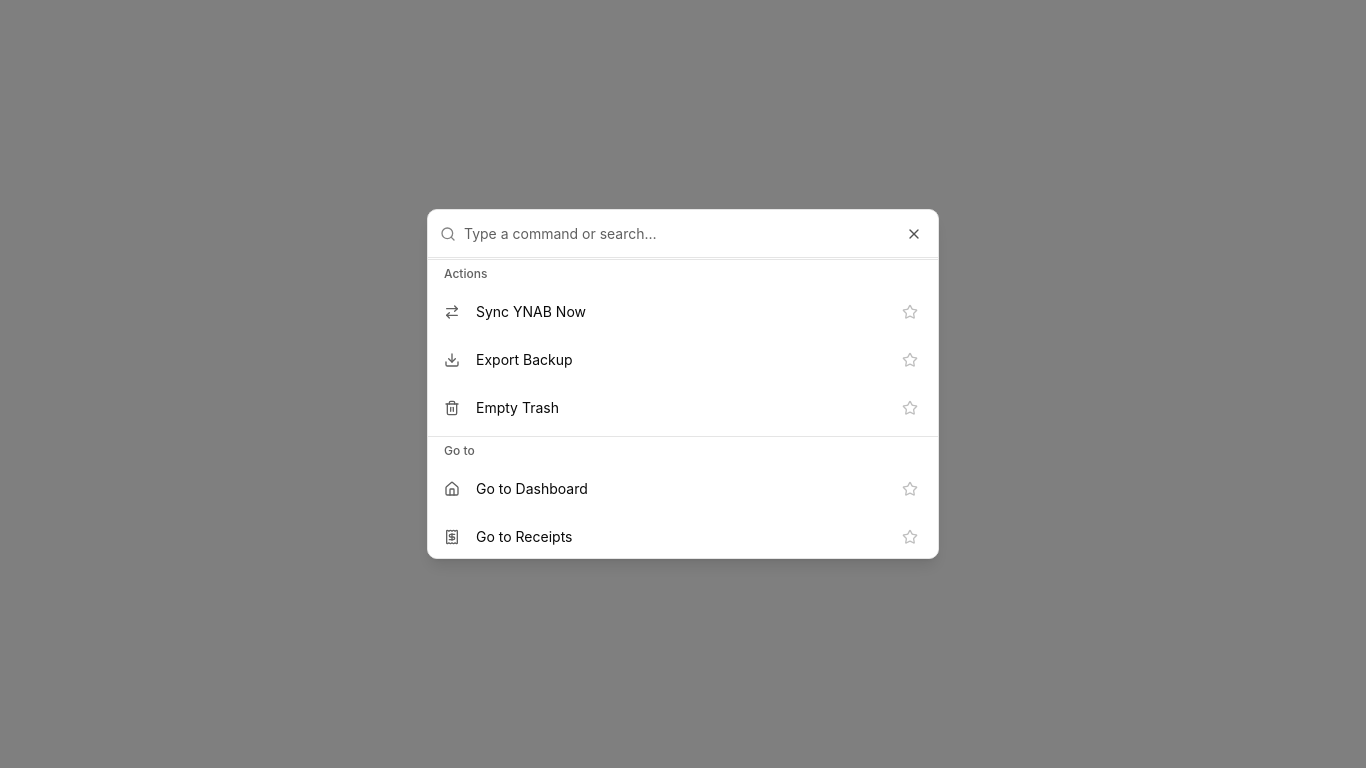
Test: CommandPalette › Empty Trash opens a confirmation dialog without closing the palette
(page scrolled)
Step 1. Click the option "Empty Trash" → {"x": 517, "y": 408}, box [444,396,922,420]
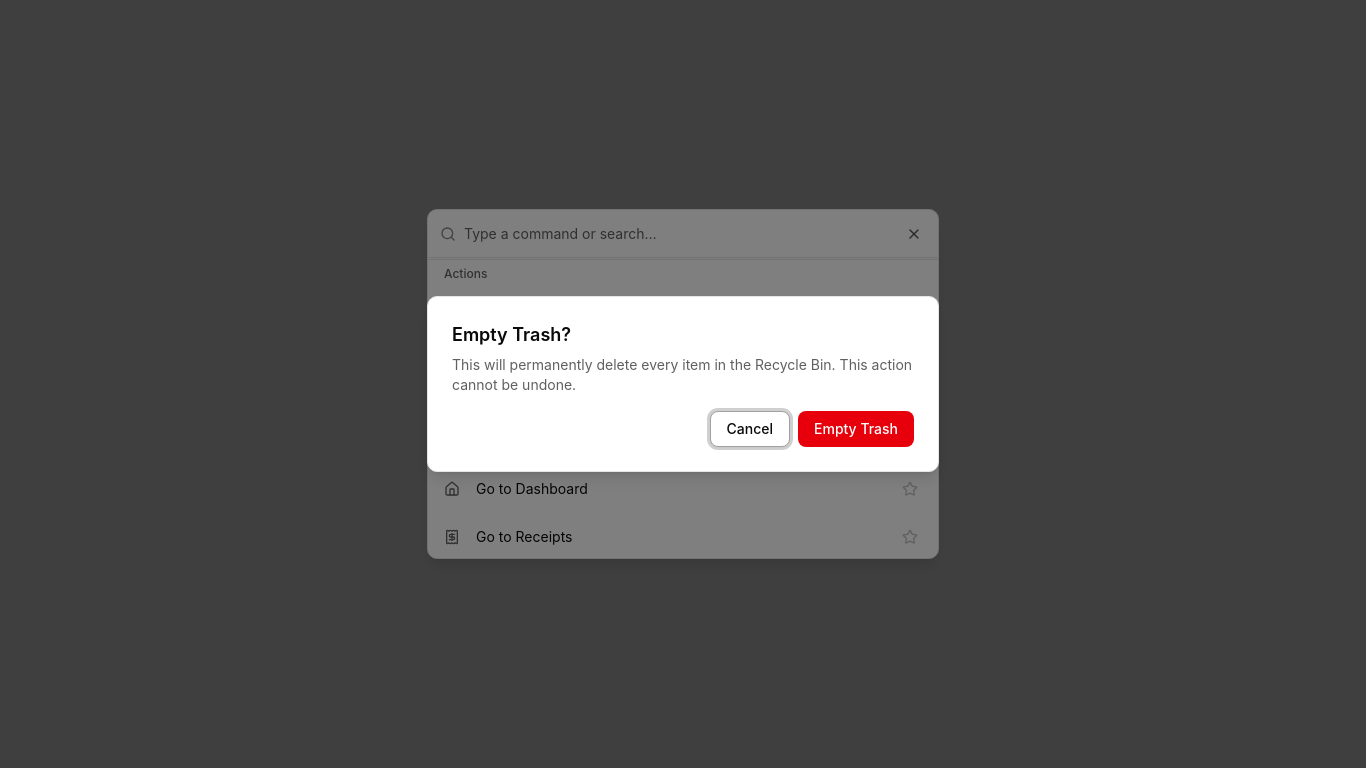
Expected: the dialog "Empty Trash" is shown, [427,296,939,472]
